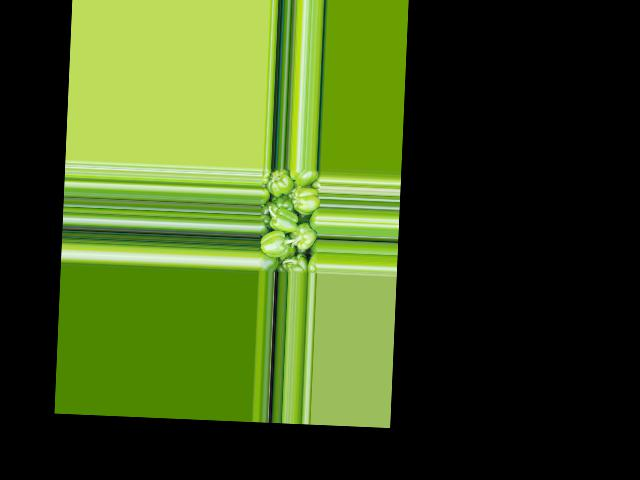bell_pepper: (258, 248, 278, 272)
